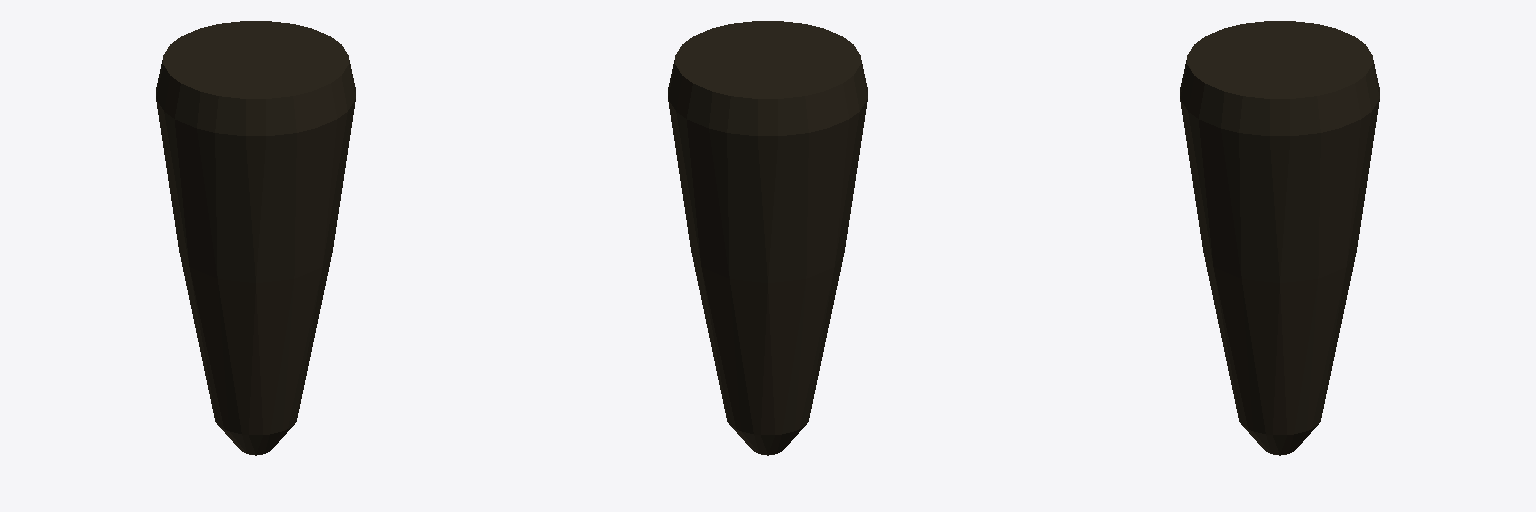
File: Torch.obj
3 renders of one model, left to right at view 1: azimuth 30°, elevation 25°; view 2: azimuth 150°, elevation 25°; view 3: azimuth 270°, elevation 25°, orthographic.
Visible parts, largest first — view 1: Cone.004_Cone.002; view 2: Cone.004_Cone.002; view 3: Cone.004_Cone.002.
Boxes of the visible parts, <box> form: Cone.004_Cone.002: <box>156,21,355,455</box>; Cone.004_Cone.002: <box>668,21,867,455</box>; Cone.004_Cone.002: <box>1180,21,1379,455</box>.
Size of the model in its own units: 8.85 by 19.14 by 8.85.